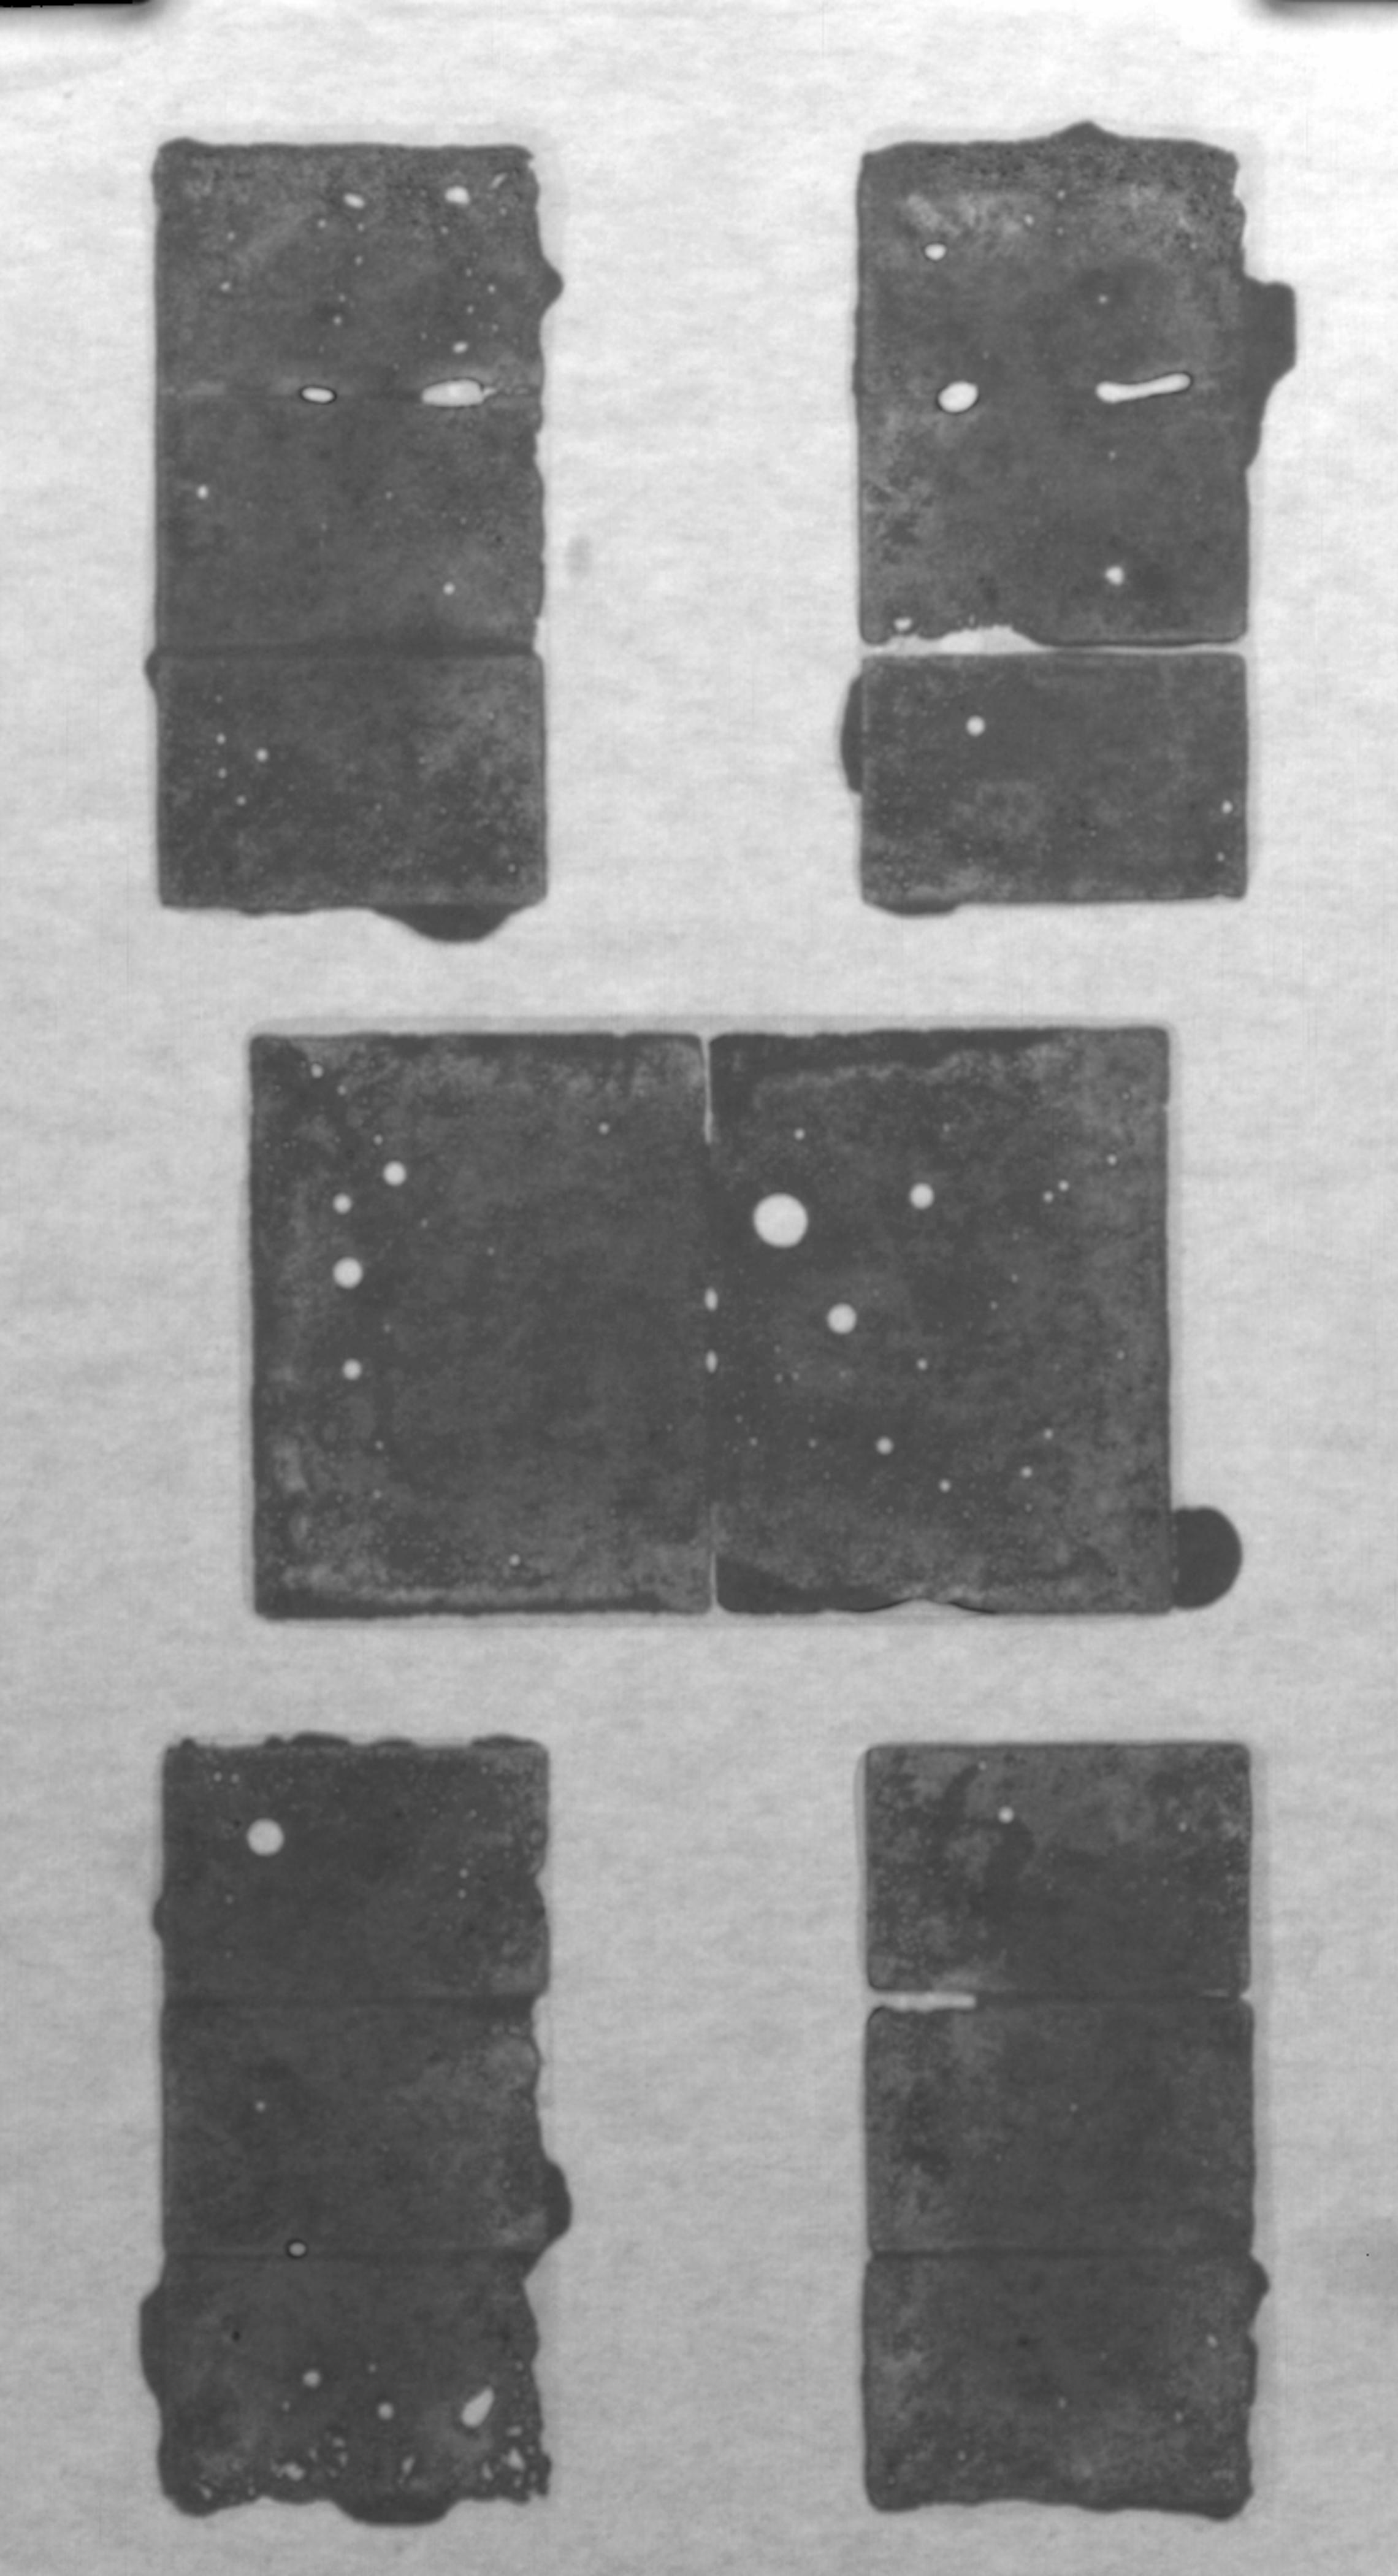CCD: (169, 145, 549, 393), (876, 145, 1257, 393), (169, 399, 549, 646), (876, 399, 1257, 646), (169, 654, 549, 901), (876, 654, 1257, 901), (169, 1748, 549, 1994), (876, 1748, 1257, 1994), (169, 2003, 549, 2249), (876, 2003, 1257, 2249), (169, 2257, 549, 2504), (876, 2257, 1257, 2504)
IOD: (255, 1035, 1171, 1615)
